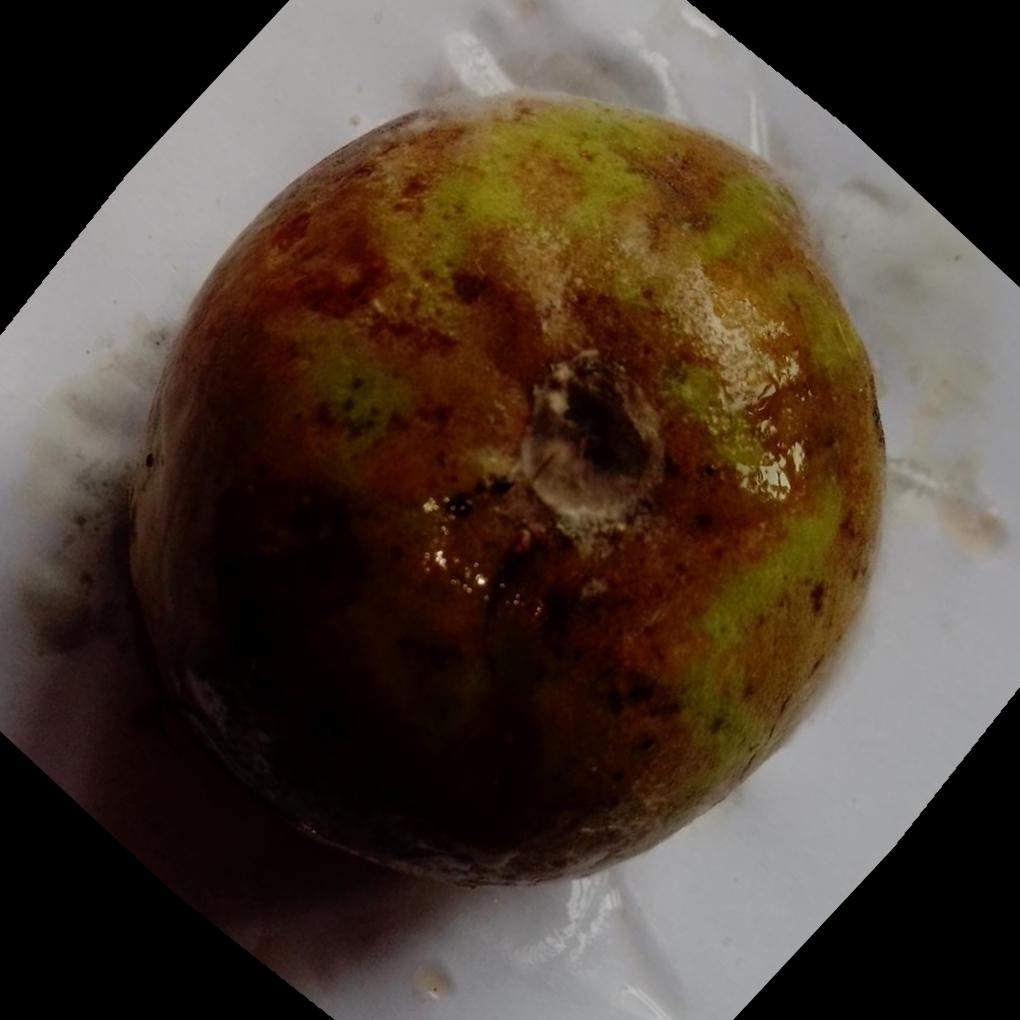FreshOrange: (120, 91, 886, 891)
